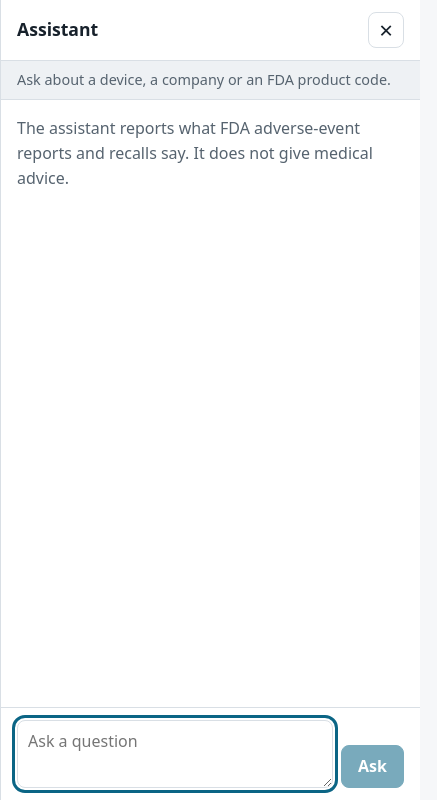
Scenario: statuses from /api/answer (handover §5) › scope: the fixed text
The image size is (437, 800).
Type "a question" into the text box named "Your question".
click(175, 754); type("a question")  # box [17,720,333,788]
Then press Enter
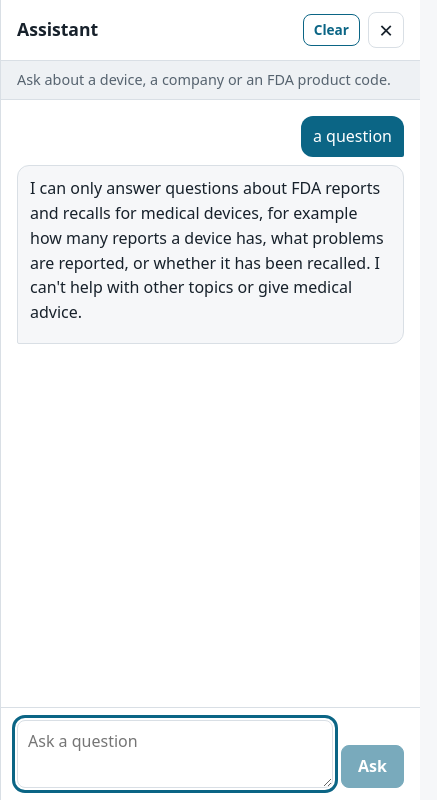
Now the element with class "reply" is shown, box [17,165,404,344]
Now the element with class "reply" shows "I can only answer questions about FDA reports and recalls for medical devices, for example how many reports a device has, what problems are reported, or whether", box [30,177,384,323]
